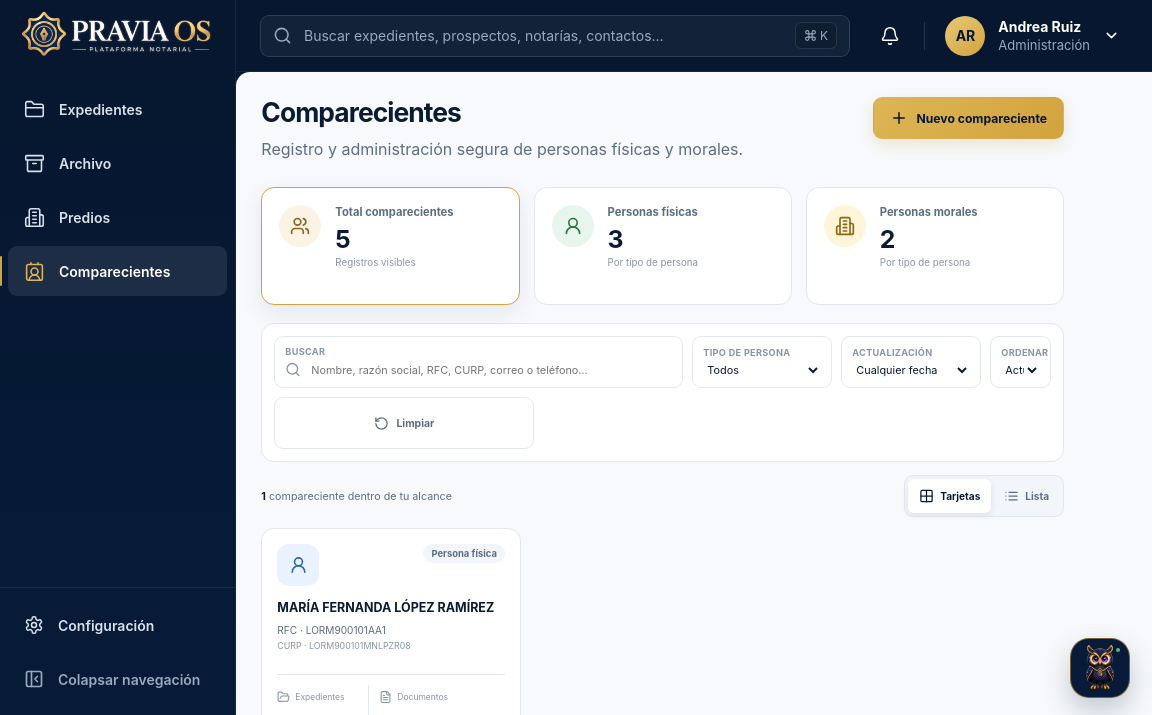
Comparecientes client workspace › comparte datos entre Tarjetas y Lista y conserva la preferencia
What coordinates should you click on to do the following:
click the button "Lista"
I would click on:
 (1027, 496)
Its box is [993,479,1060,513].
(page scrolled)
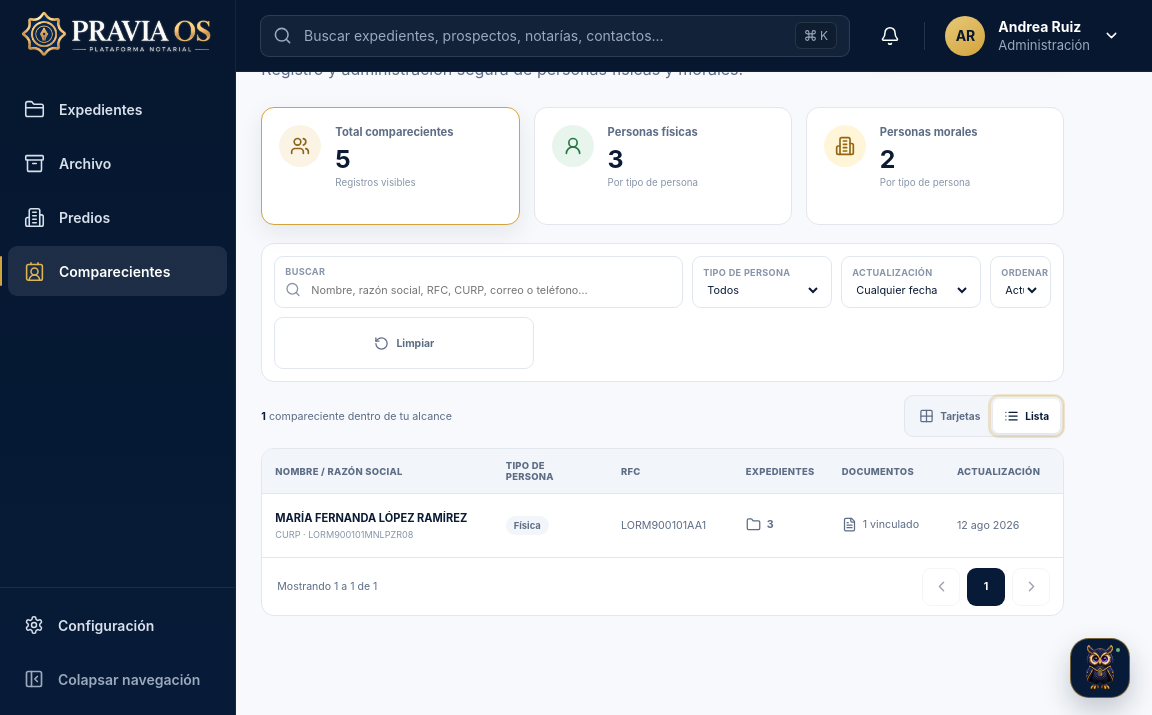
Now the table is shown, box [262,449,1063,557]
